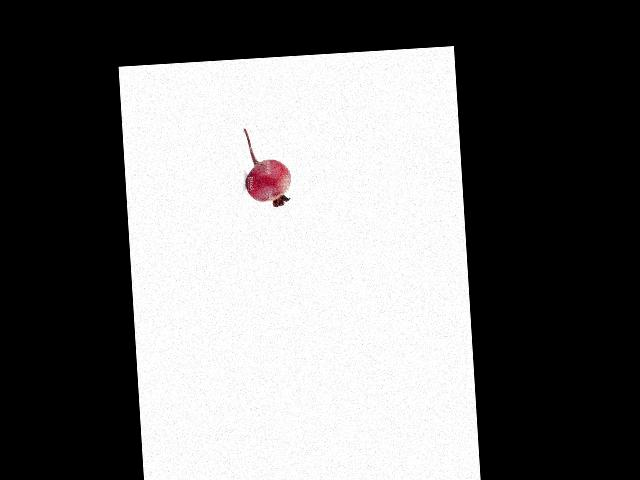beet: (242, 126, 292, 209)
